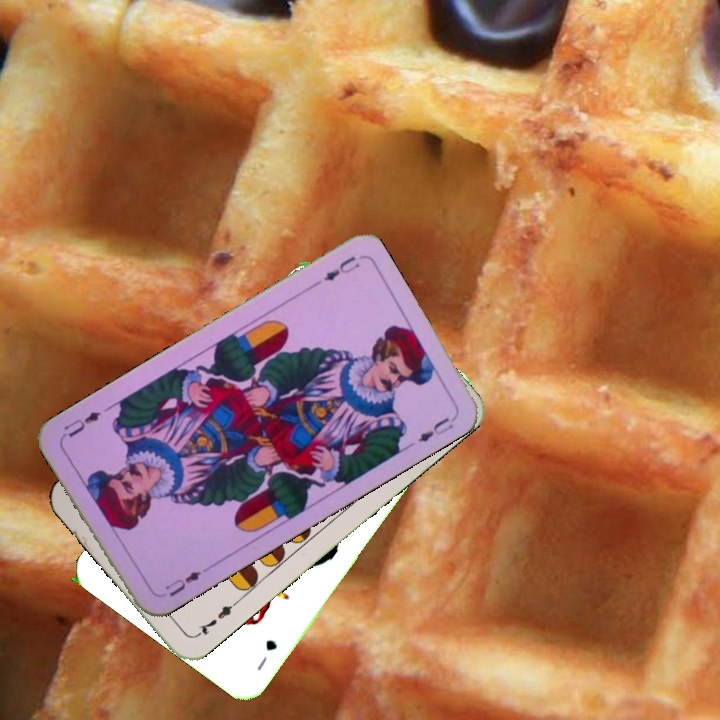E7: (191, 597, 241, 640)
EU: (160, 566, 204, 600), (320, 251, 363, 284)
GU: (253, 635, 280, 674)
